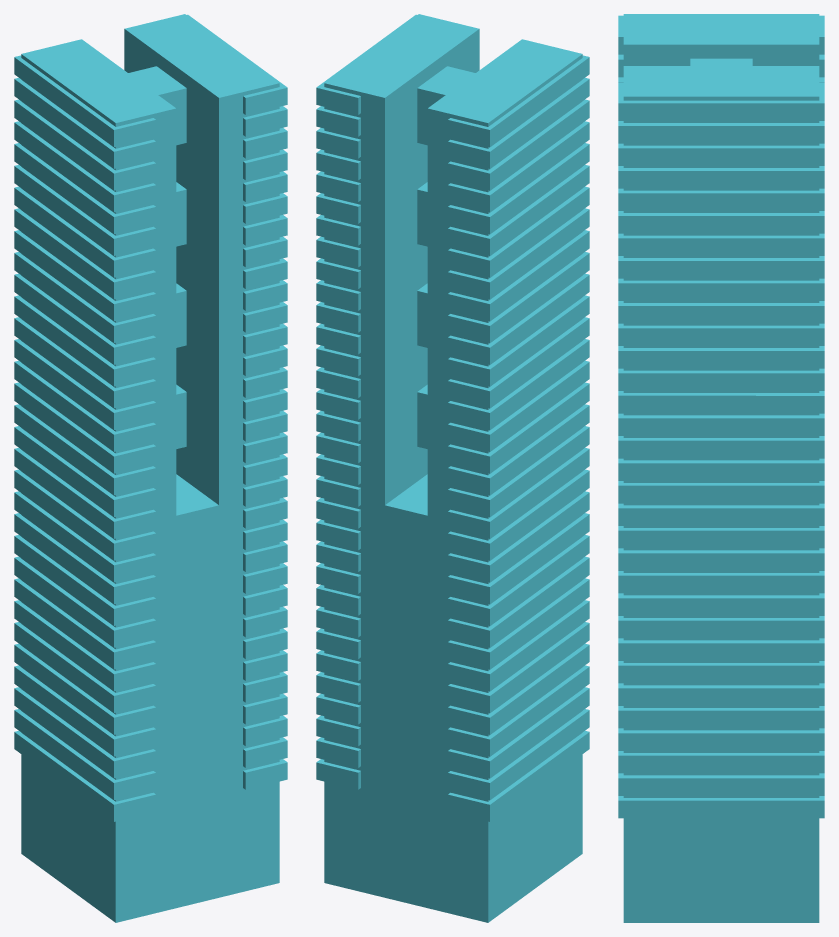
File: ExportedBlenderFBXFile.fbx
3 views of the same model, side by side, from view 1: azimuth 30°, elevation 25°; view 2: azimuth 150°, elevation 25°; view 3: azimuth 270°, elevation 25° (orthographic). The views are drawn at different scales.
Visible parts, largest first — view 1: Building29; view 2: Building29; view 3: Building29.
Boxes of the visible parts, x1,y1,x2,y2 form: Building29: (14, 14, 287, 922); Building29: (316, 14, 589, 922); Building29: (618, 14, 824, 922).
Bounding box in the file's own units: 31.85 × 140 × 31.66.
